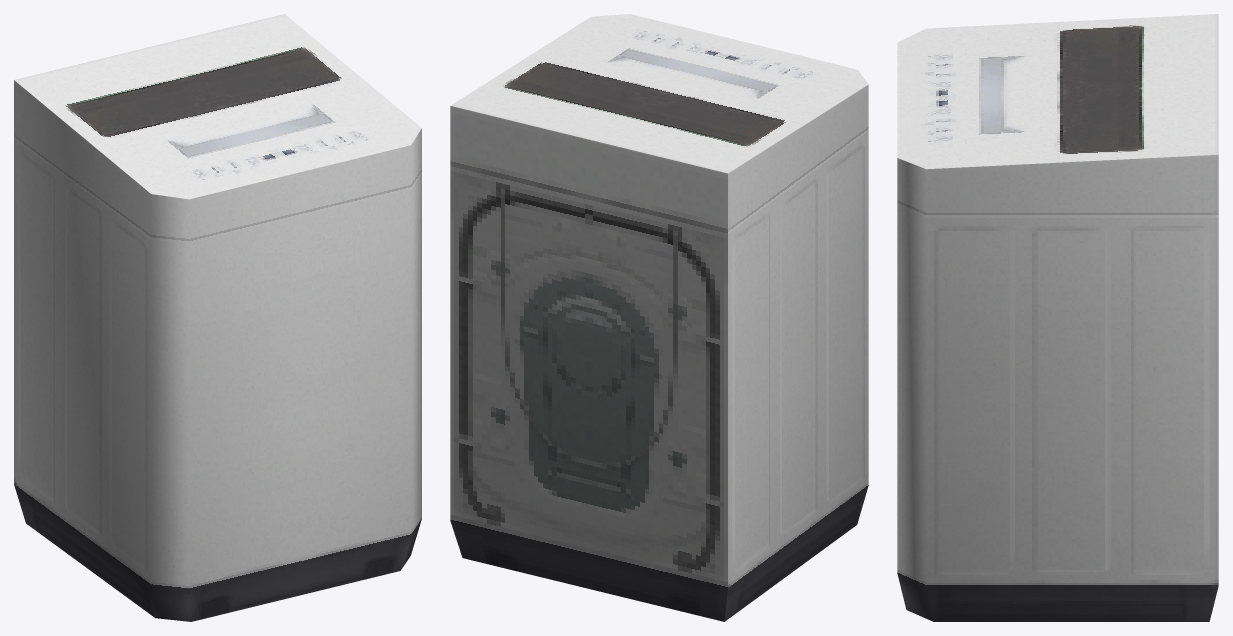
The model's file is Laundry.glb.
3 renders of one model, left to right at view 1: azimuth 30°, elevation 25°; view 2: azimuth 150°, elevation 25°; view 3: azimuth 270°, elevation 25°, orthographic. The views are drawn at different scales.
Parts seen in each view (by area): view 1: laundry; view 2: laundry; view 3: laundry.
Boxes of the visible parts, box(x1,y1,x2,y2) form: laundry: box(14, 14, 421, 621); laundry: box(450, 14, 868, 621); laundry: box(897, 14, 1218, 621).
Bounding box in the file's own units: 0.57 × 0.8897 × 0.55.
Materials: 1 (1 with a texture image).
